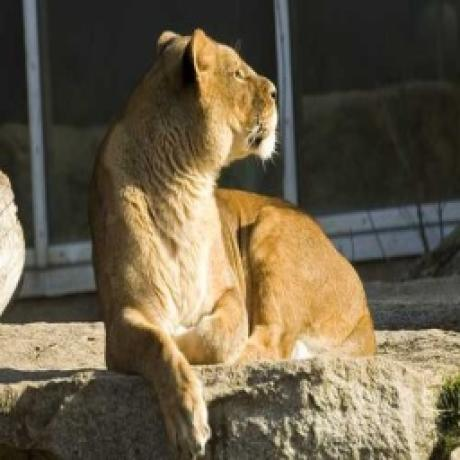Lion: (84, 27, 378, 460)
